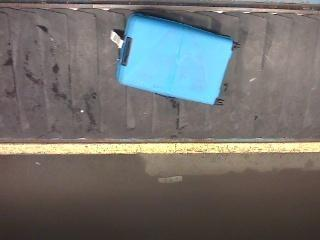Suitcase: (118, 13, 234, 104)
